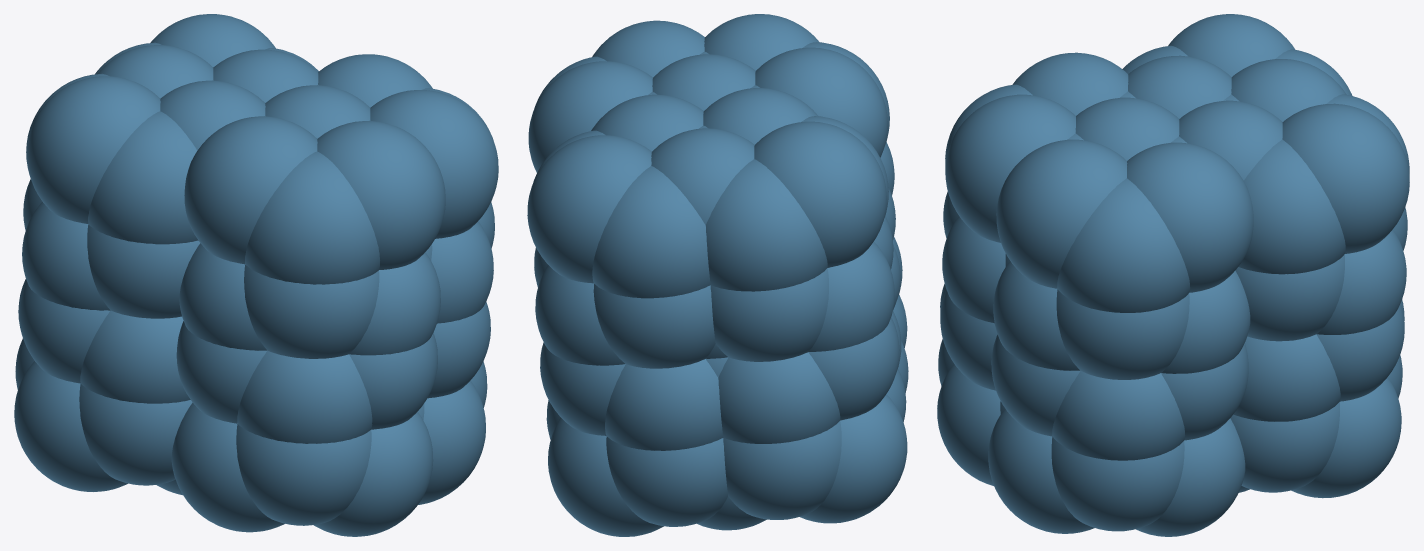
The model's file is hotdog.glb.
3 renders of one model, left to right at view 1: azimuth 30°, elevation 25°; view 2: azimuth 150°, elevation 25°; view 3: azimuth 270°, elevation 25°, orthographic.
Parts seen in each view (by area): view 1: atoms; view 2: atoms; view 3: atoms.
Part boxes in pixels (box(x1,y1,x2,y2)): atoms: box(14, 14, 498, 536); atoms: box(527, 14, 908, 536); atoms: box(937, 14, 1409, 536).
Size of the model in its own units: 11.41 by 10.82 by 11.49.
